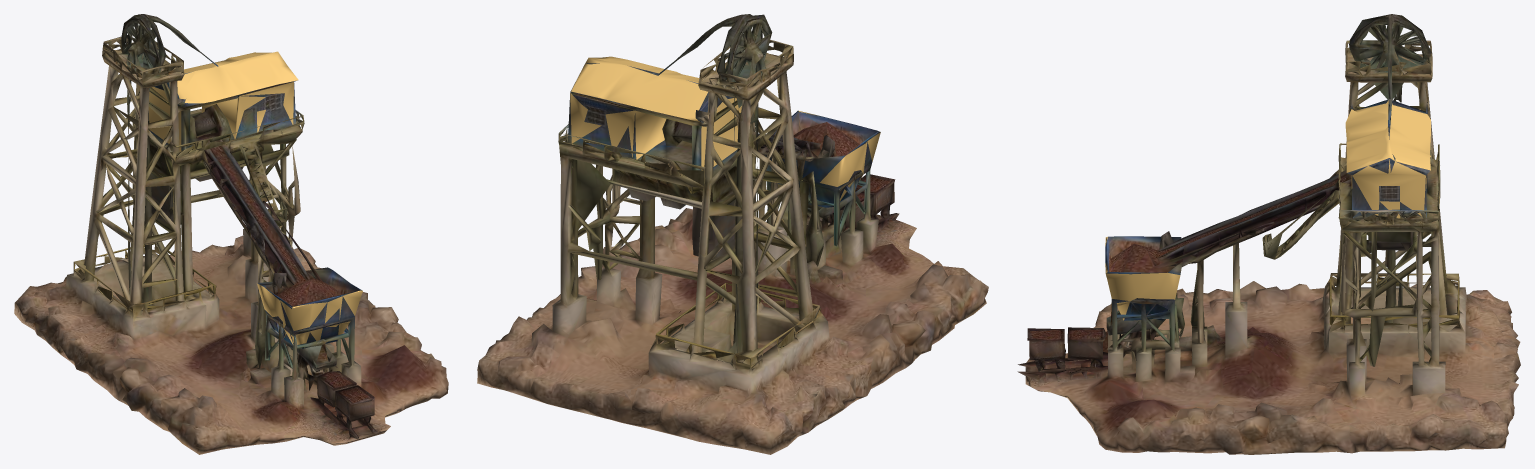
The model's file is mine.glb.
3 renders of one model, left to right at view 1: azimuth 30°, elevation 25°; view 2: azimuth 150°, elevation 25°; view 3: azimuth 270°, elevation 25°, orthographic. The views are drawn at different scales.
Visible parts, largest first — view 1: Model; view 2: Model; view 3: Model.
Boxes of the visible parts, left/top/right/bottom form: Model: left=14, top=14, right=448, bottom=454; Model: left=477, top=14, right=988, bottom=454; Model: left=1017, top=14, right=1520, bottom=454.
Bounding box in the file's own units: 1.35 × 1.53 × 2.
2 materials, 1 textured.
